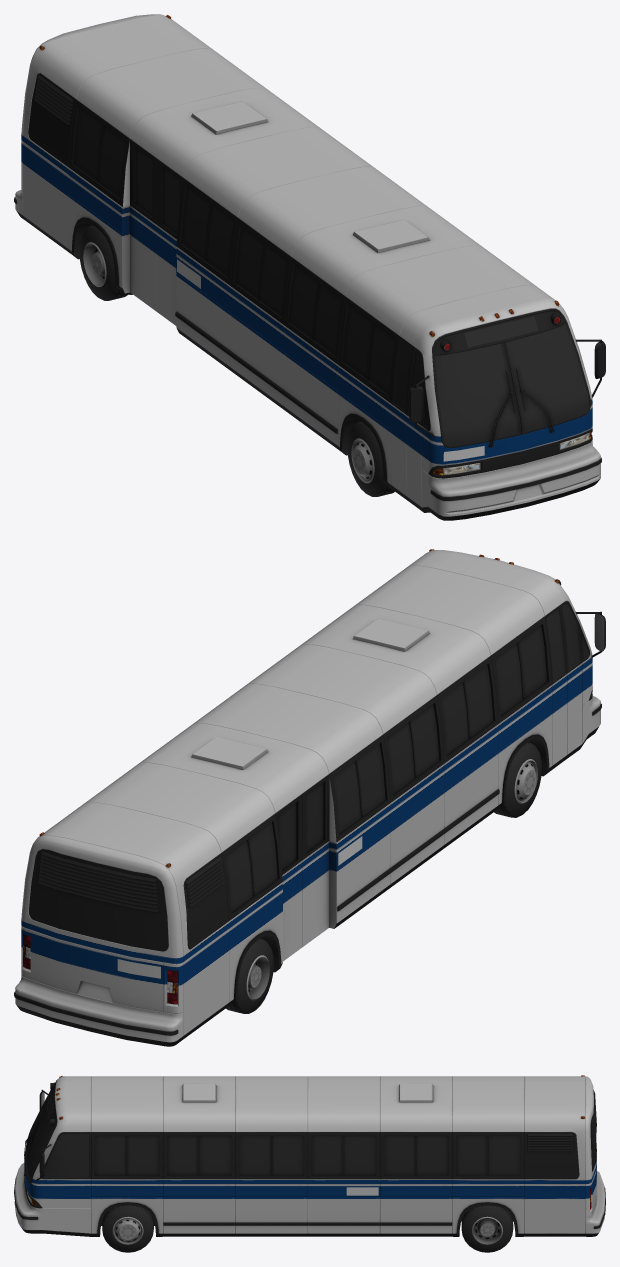
The model's file is City_Bus.fbx.
The picture shows the model from 3 angles, top to bottom: view 1: azimuth 30°, elevation 25°; view 2: azimuth 150°, elevation 25°; view 3: azimuth 270°, elevation 25°; orthographic projection. The views are drawn at different scales.
Parts seen in each view (by area): view 1: City_Bus; view 2: City_Bus; view 3: City_Bus.
Boxes of the visible parts, bbox=[...] form: City_Bus: bbox=[14, 14, 605, 520]; City_Bus: bbox=[14, 549, 605, 1046]; City_Bus: bbox=[14, 1075, 605, 1252].
Bounding box in the file's own units: 265 × 263 × 1040.
